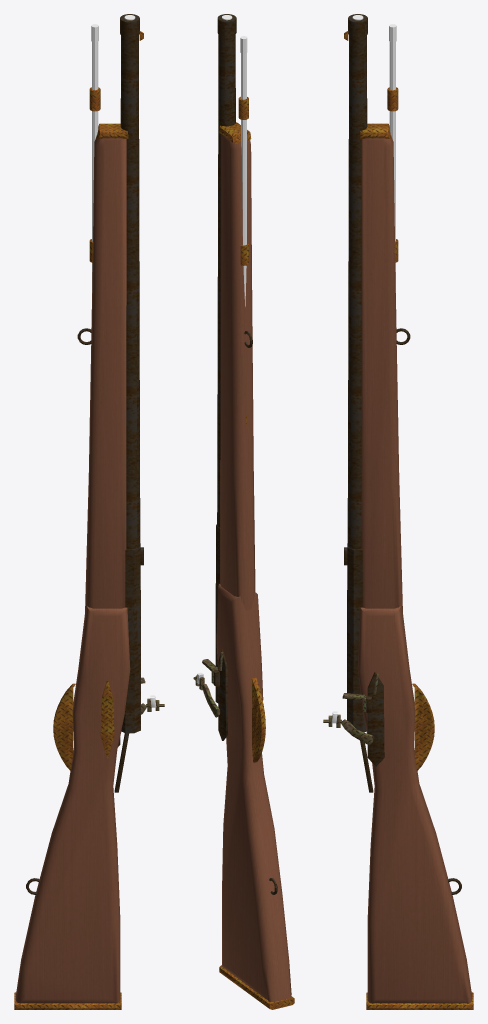
The model's file is musket.glb.
3 views of the same model, side by side, from view 1: azimuth 90°, elevation 25°; view 2: azimuth 210°, elevation 25°; view 3: azimuth 270°, elevation 25° (orthographic). The views are drawn at different scales.
Parts seen in each view (by area): view 1: musket_wood, musket_iron, musket_brass, musket_rod; view 2: musket_wood, musket_iron, musket_brass, musket_rod, musket_steel; view 3: musket_wood, musket_iron, musket_brass, musket_rod, musket_steel.
Boxes of the visible parts, x1,y1,x2,y2 form: musket_wood: (16, 135, 130, 1003); musket_iron: (26, 14, 143, 894); musket_brass: (14, 31, 143, 1009); musket_rod: (91, 24, 98, 292); musket_wood: (216, 134, 291, 1001); musket_iron: (213, 14, 277, 894); musket_brass: (219, 96, 294, 1009); musket_rod: (240, 36, 247, 306); musket_steel: (193, 651, 223, 717); musket_wood: (357, 135, 471, 1003); musket_iron: (344, 14, 461, 894); musket_brass: (344, 31, 473, 1009); musket_rod: (389, 24, 396, 292); musket_steel: (323, 673, 378, 745).
Size of the model in its own units: 0.0565 by 1.56 by 0.216.
Materials: 7 (4 with a texture image).
